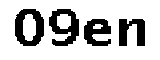0: (13, 7, 45, 50)
9: (48, 7, 80, 50)
e: (80, 17, 113, 51)
n: (119, 13, 147, 52)
